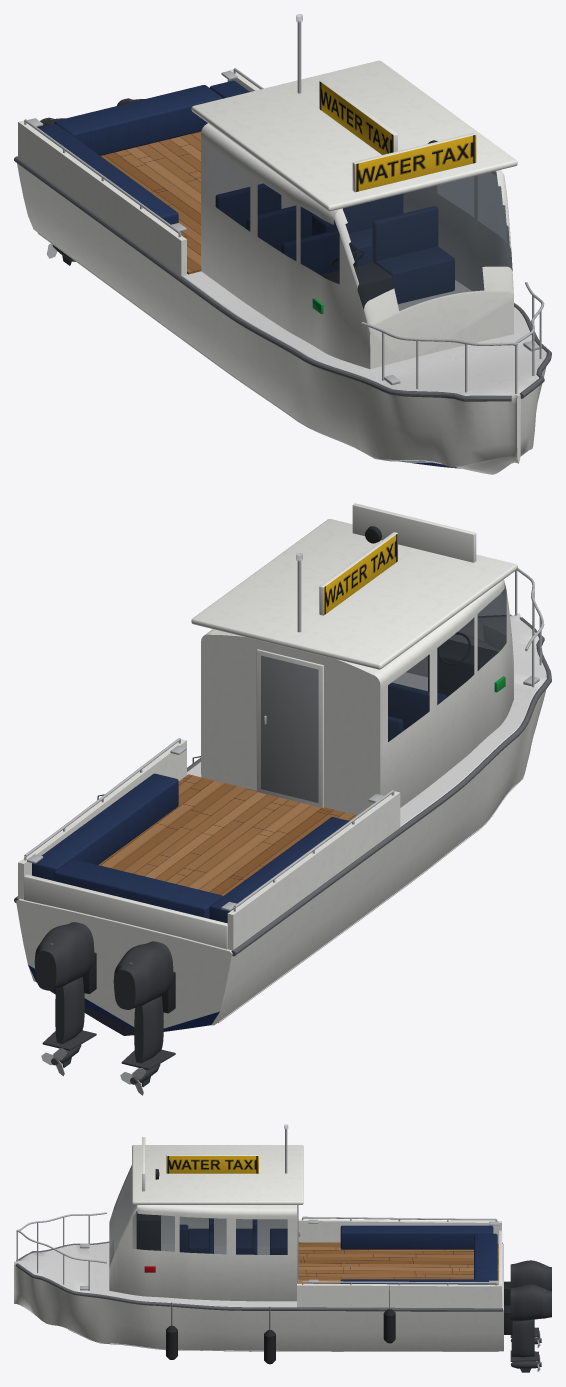
Rendered from water-taxi.glb.
3 renders of one model, top to bottom at view 1: azimuth 30°, elevation 25°; view 2: azimuth 150°, elevation 25°; view 3: azimuth 270°, elevation 25°, orthographic. The views are drawn at different scales.
Visible parts, largest first — view 1: Water taxi - Hull and cabin, white gelcoat, Water taxi - Cabin windows, tinted (alpha-blended), Water taxi - Seat cushions, navy vinyl, Water taxi - Foredeck, non-skid gelcoat, Water taxi - Aft deck, teak-look planking, Water taxi - Roof sign, WATER TAXI, Water taxi - Rub rails, grey, Water taxi - Brushed steel, Water taxi - Cabin interior, grey; view 2: Water taxi - Hull and cabin, white gelcoat, Water taxi - Aft deck, teak-look planking, Water taxi - Seat cushions, navy vinyl, Water taxi - Cabin windows, tinted (alpha-blended), Water taxi - Outboard motors, graphite grey, Water taxi - Foredeck, non-skid gelcoat, Water taxi - Brushed steel, Water taxi - Rub rails, grey, Water taxi - Roof sign, WATER TAXI, Water taxi - Cabin interior, grey, Water taxi - Satin black, Water taxi - Boot stripe, navy; view 3: Water taxi - Hull and cabin, white gelcoat, Water taxi - Seat cushions, navy vinyl, Water taxi - Cabin windows, tinted (alpha-blended), Water taxi - Aft deck, teak-look planking, Water taxi - Foredeck, non-skid gelcoat, Water taxi - Outboard motors, graphite grey, Water taxi - Rub rails, grey, Water taxi - Brushed steel, Water taxi - Roof sign, WATER TAXI, Water taxi - Satin black, Water taxi - Cabin interior, grey.
Part boxes in pixels (left/top/right/bottom): Water taxi - Hull and cabin, white gelcoat: left=17, top=60, right=546, bottom=474; Water taxi - Cabin windows, tinted (alpha-blended): left=208, top=145, right=512, bottom=310; Water taxi - Seat cushions, navy vinyl: left=38, top=80, right=454, bottom=303; Water taxi - Foredeck, non-skid gelcoat: left=182, top=271, right=546, bottom=395; Water taxi - Aft deck, teak-look planking: left=101, top=131, right=201, bottom=274; Water taxi - Roof sign, WATER TAXI: left=319, top=81, right=476, bottom=191; Water taxi - Rub rails, grey: left=14, top=99, right=551, bottom=401; Water taxi - Brushed steel: left=24, top=20, right=544, bottom=393; Water taxi - Cabin interior, grey: left=322, top=262, right=392, bottom=309; Water taxi - Hull and cabin, white gelcoat: left=16, top=503, right=546, bottom=1028; Water taxi - Aft deck, teak-look planking: left=98, top=774, right=356, bottom=895; Water taxi - Seat cushions, navy vinyl: left=32, top=682, right=446, bottom=923; Water taxi - Cabin windows, tinted (alpha-blended): left=261, top=584, right=512, bottom=802; Water taxi - Outboard motors, graphite grey: left=34, top=922, right=175, bottom=1086; Water taxi - Foredeck, non-skid gelcoat: left=17, top=613, right=546, bottom=953; Water taxi - Brushed steel: left=24, top=559, right=544, bottom=1095; Water taxi - Rub rails, grey: left=14, top=614, right=551, bottom=964; Water taxi - Roof sign, WATER TAXI: left=323, top=533, right=397, bottom=615; Water taxi - Cabin interior, grey: left=428, top=639, right=498, bottom=697; Water taxi - Satin black: left=82, top=526, right=471, bottom=1013; Water taxi - Boot stripe, navy: left=28, top=965, right=219, bottom=1031; Water taxi - Hull and cabin, white gelcoat: left=14, top=1137, right=503, bottom=1351; Water taxi - Seat cushions, navy vinyl: left=179, top=1218, right=497, bottom=1284; Water taxi - Cabin windows, tinted (alpha-blended): left=109, top=1165, right=298, bottom=1278; Water taxi - Aft deck, teak-look planking: left=297, top=1242, right=498, bottom=1284; Water taxi - Foredeck, non-skid gelcoat: left=14, top=1243, right=503, bottom=1309; Water taxi - Outboard motors, graphite grey: left=510, top=1260, right=551, bottom=1372; Water taxi - Rub rails, grey: left=15, top=1241, right=545, bottom=1330; Water taxi - Brushed steel: left=16, top=1128, right=540, bottom=1371; Water taxi - Roof sign, WATER TAXI: left=166, top=1156, right=258, bottom=1173; Water taxi - Satin black: left=155, top=1169, right=512, bottom=1364; Water taxi - Cabin interior, grey: left=136, top=1211, right=160, bottom=1250.
Bounding box in the file's own units: 3.19 × 4.8 × 9.88.
Materials: 17 (17 with a texture image).
